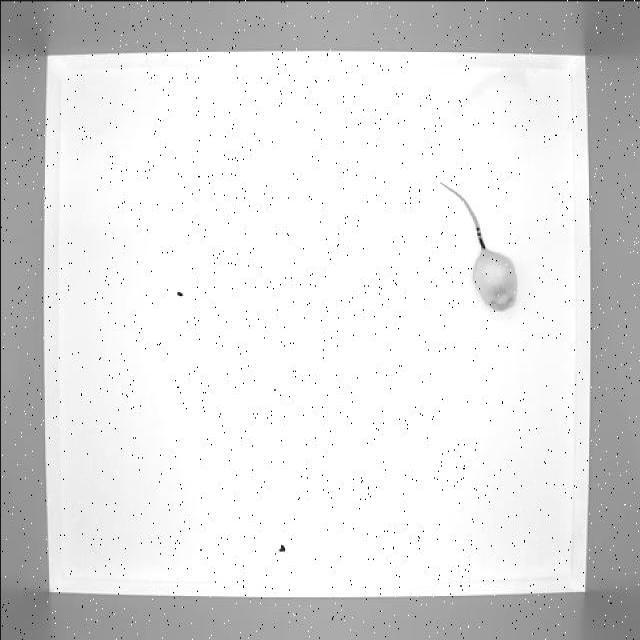rat: (434, 178, 521, 314)
